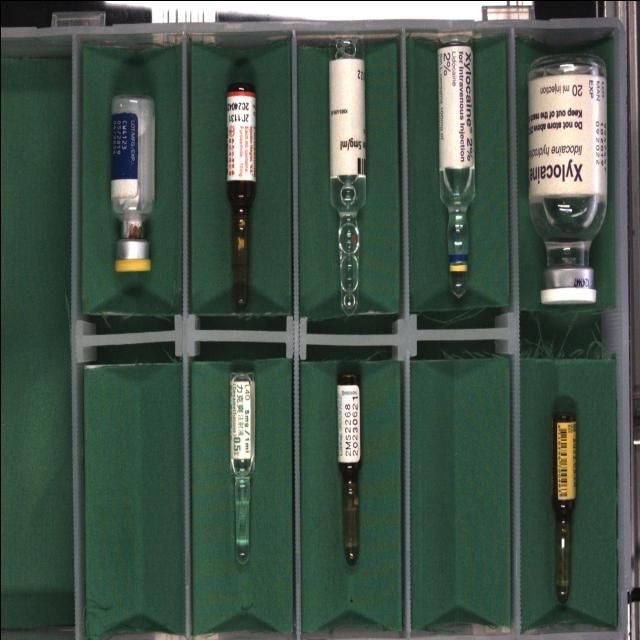Vials: (527, 54, 606, 303), (110, 94, 154, 271)
